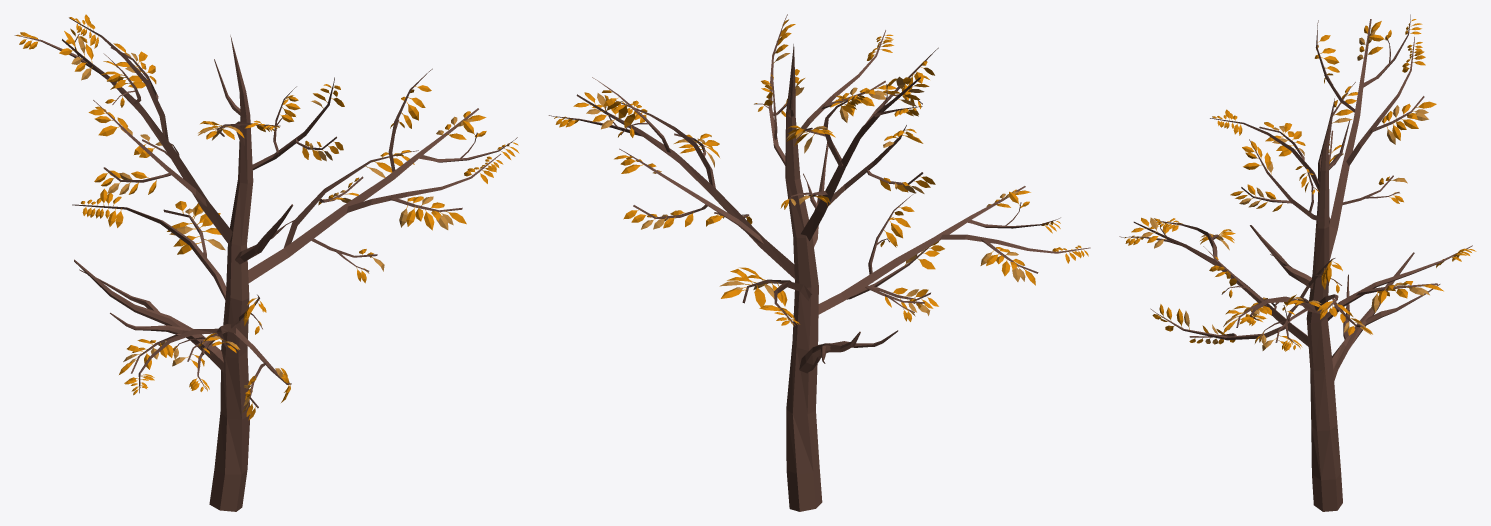
The model's file is fall.glb.
The picture shows the model from 3 angles, left to right: view 1: azimuth 30°, elevation 25°; view 2: azimuth 150°, elevation 25°; view 3: azimuth 270°, elevation 25°; orthographic projection. The views are drawn at different scales.
Parts seen in each view (by area): view 1: node_MeshObject2104761984-PolyPaper20, node_MeshObject-1671485248-PolyPaper13; view 2: node_MeshObject2104761984-PolyPaper20, node_MeshObject-1671485248-PolyPaper13; view 3: node_MeshObject2104761984-PolyPaper20, node_MeshObject-1671485248-PolyPaper13.
Part boxes in pixels (x1,y1,x2,y2): node_MeshObject2104761984-PolyPaper20: (14,14,519,511); node_MeshObject-1671485248-PolyPaper13: (72,77,344,420); node_MeshObject2104761984-PolyPaper20: (548,44,1025,511); node_MeshObject-1671485248-PolyPaper13: (719,14,1090,373); node_MeshObject2104761984-PolyPaper20: (1133,14,1436,511); node_MeshObject-1671485248-PolyPaper13: (1119,109,1476,380).
Bounding box in the file's own units: 5.85 × 5.91 × 4.44.
